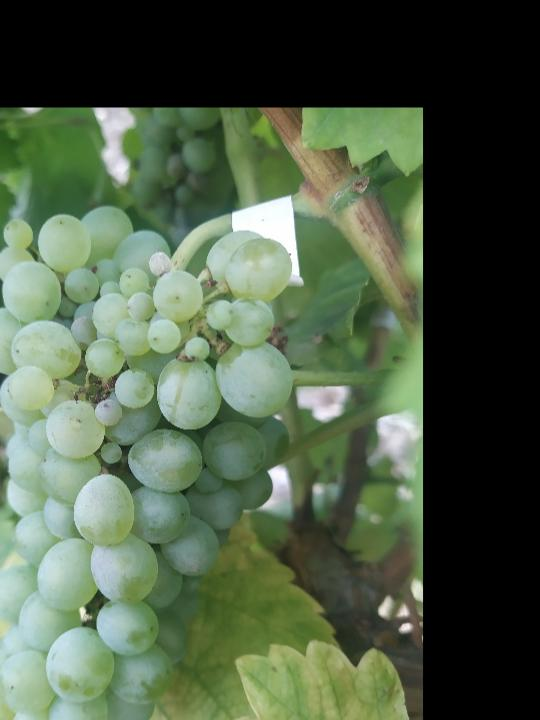grape: (0, 203, 296, 720)
